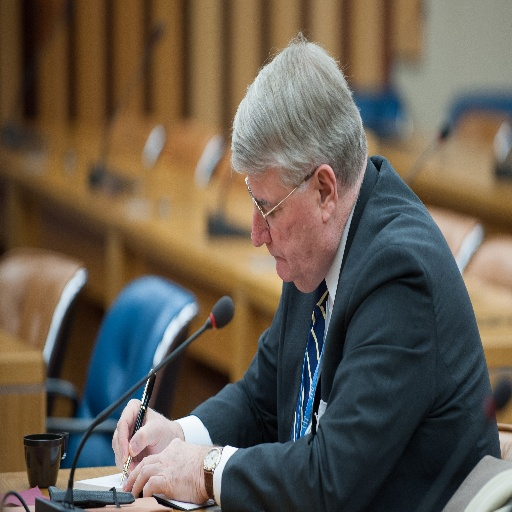hand: (111, 397, 180, 478)
